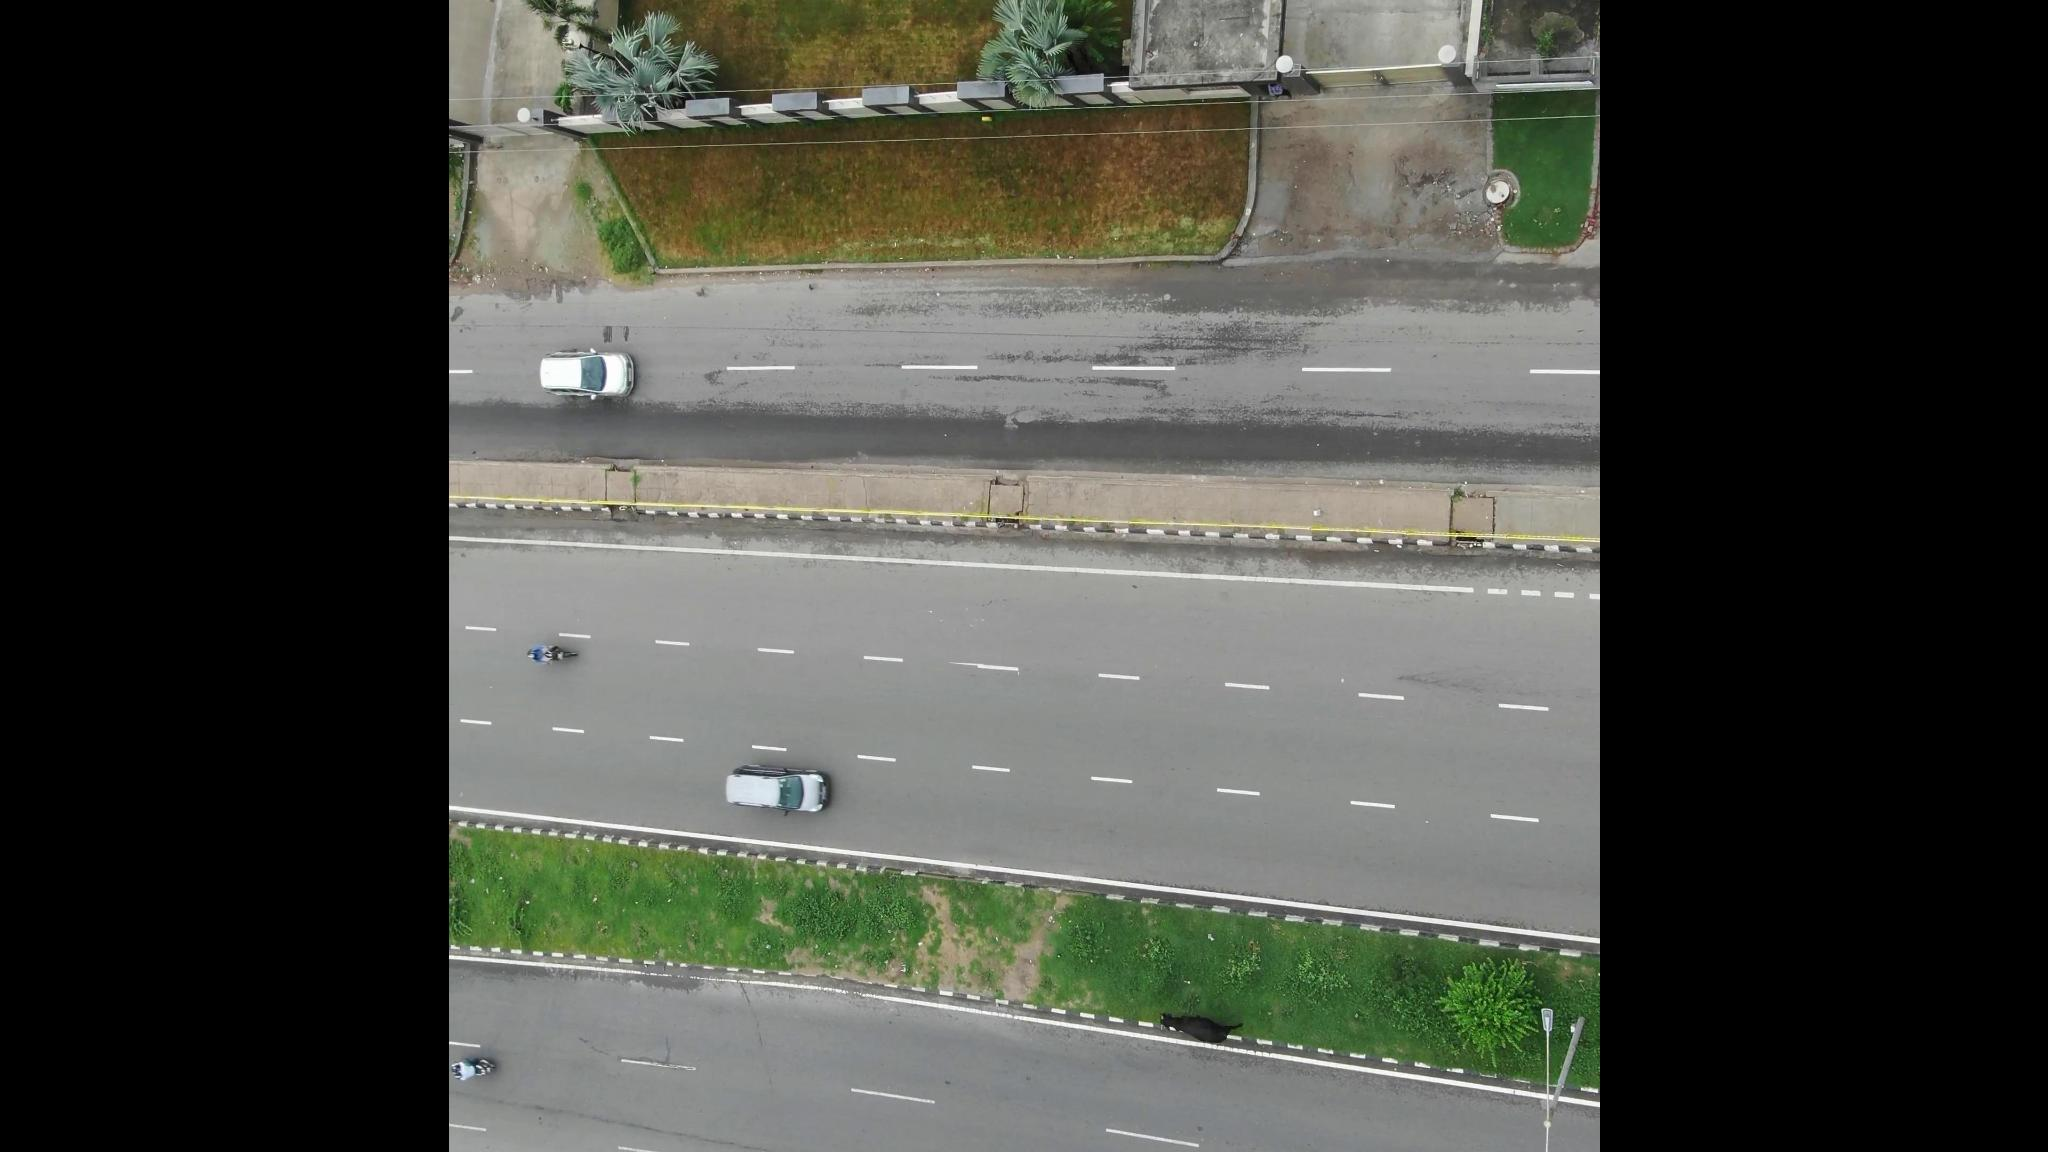Ravelling: (944, 321, 1305, 401)
